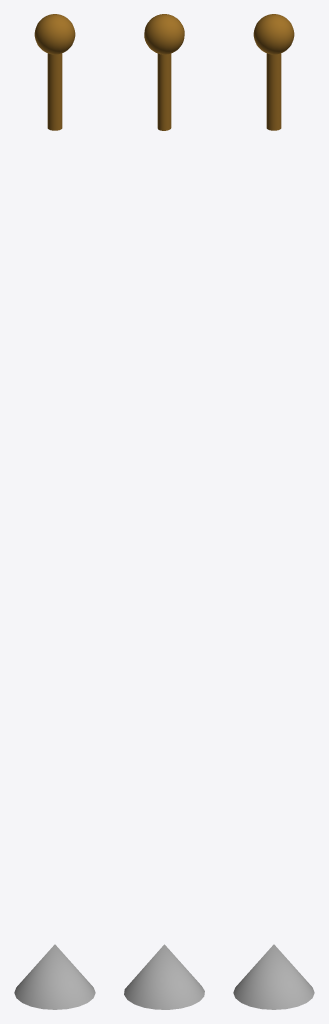
File: Bulb01.fbx
The picture shows the model from 3 angles, left to right: view 1: azimuth 90°, elevation 25°; view 2: azimuth 150°, elevation 25°; view 3: azimuth 270°, elevation 25°; orthographic projection.
Parts seen in each view (by area): view 1: HoldFast, polySurface60; view 2: HoldFast, polySurface60; view 3: HoldFast, polySurface60.
Part boxes in pixels (<box>): HoldFast: <box>14,944,95,1009</box>; polySurface60: <box>34,14,75,130</box>; HoldFast: <box>124,944,204,1009</box>; polySurface60: <box>144,14,184,130</box>; HoldFast: <box>233,944,314,1009</box>; polySurface60: <box>253,14,294,130</box>.
Bounding box in the file's own units: 0.375 × 4.96 × 0.375.
